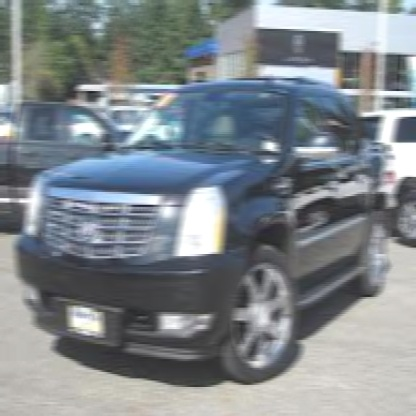Vehicle: (14, 73, 398, 392)
